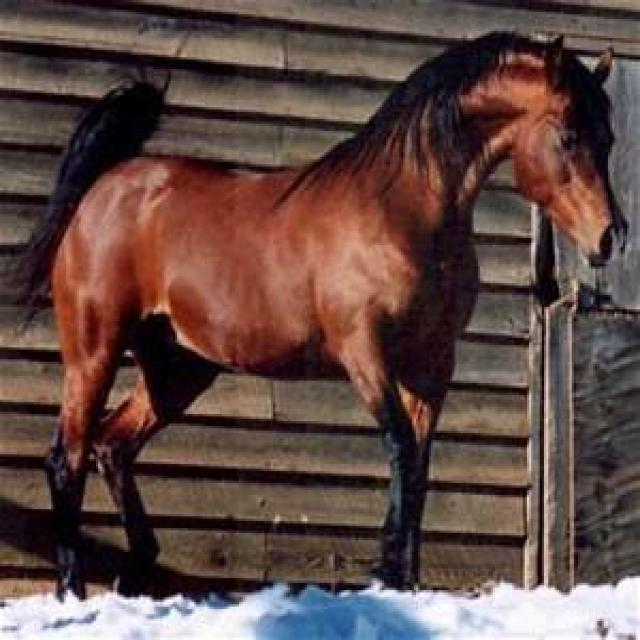horse: (24, 33, 622, 595)
